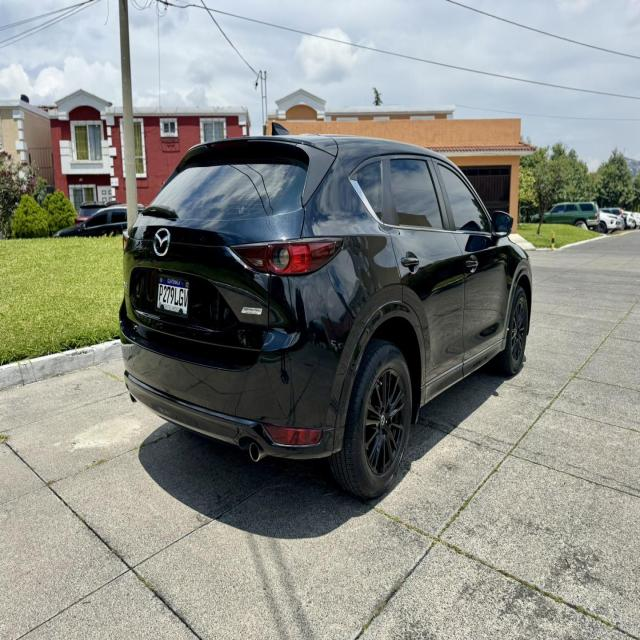Placas: (156, 270, 193, 320)
